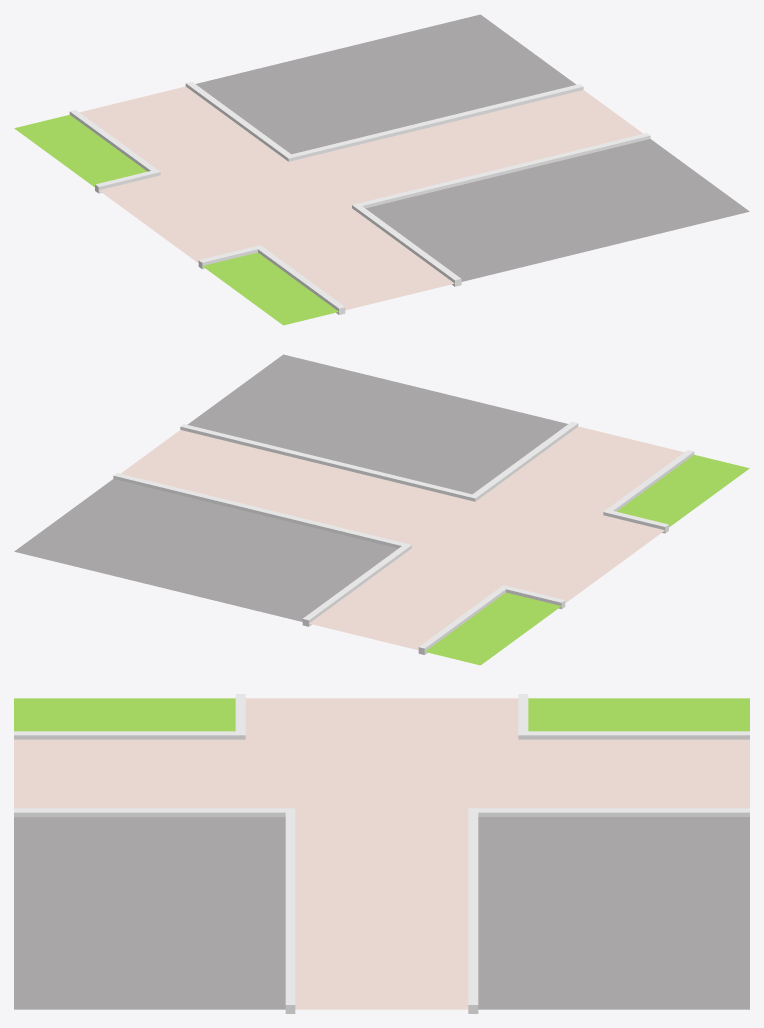
Rendered from building_platform_008.glb.
The picture shows the model from 3 angles, top to bottom: view 1: azimuth 30°, elevation 25°; view 2: azimuth 150°, elevation 25°; view 3: azimuth 270°, elevation 25°; orthographic projection. The views are drawn at different scales.
Parts seen in each view (by area): view 1: building_platform_008; view 2: building_platform_008; view 3: building_platform_008.
Part boxes in pixels (x1,y1,x2,y2): building_platform_008: (14, 14, 749, 325); building_platform_008: (14, 354, 749, 665); building_platform_008: (14, 694, 749, 1013).
Size of the model in its own units: 15 by 0.2 by 15.
Materials: 1 (1 with a texture image).
